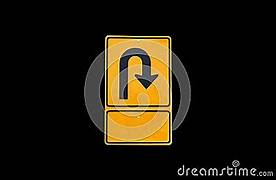back: (103, 33, 172, 107)
